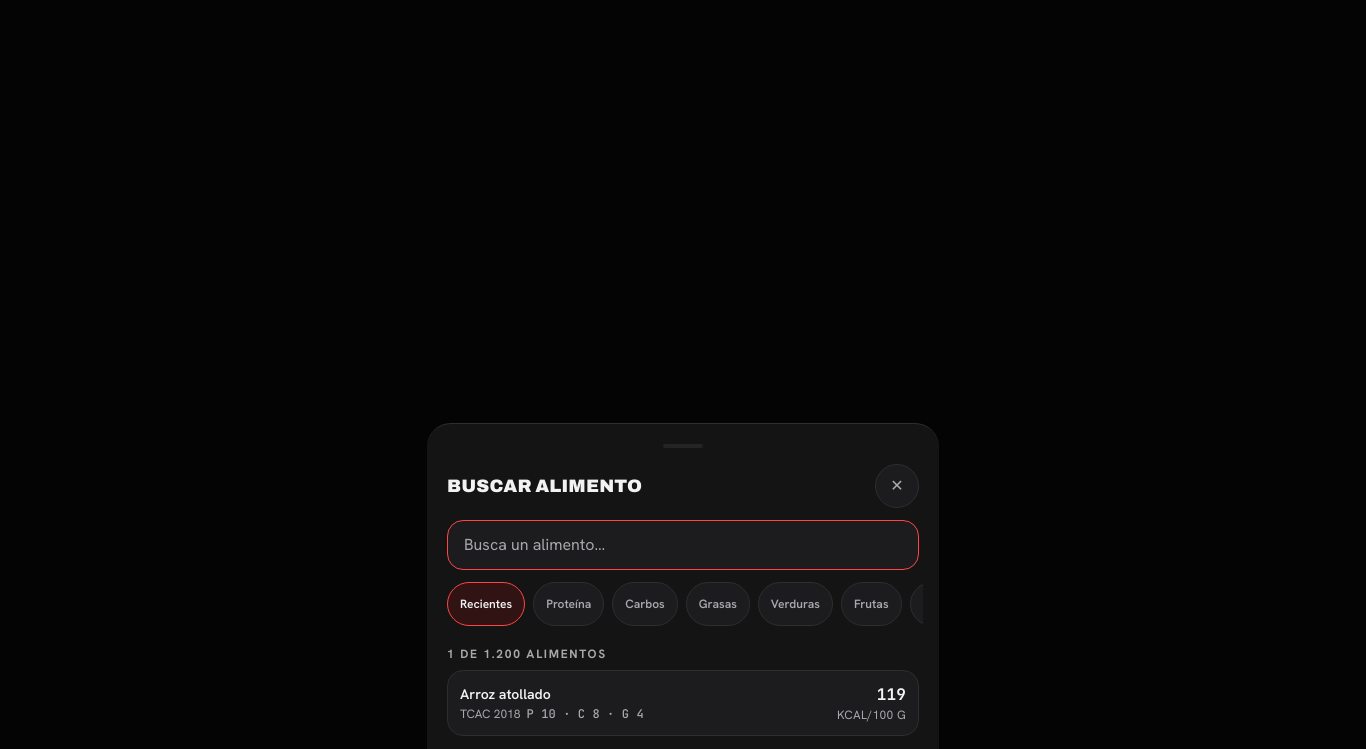
SheetBuscarAlimento › recientes › al escribir, la búsqueda manda sobre los recientes
The width and height of the screenshot is (1366, 749).
In the search field named "Nombre del alimento": point(683, 545) [447, 520, 919, 570], type "pollo"
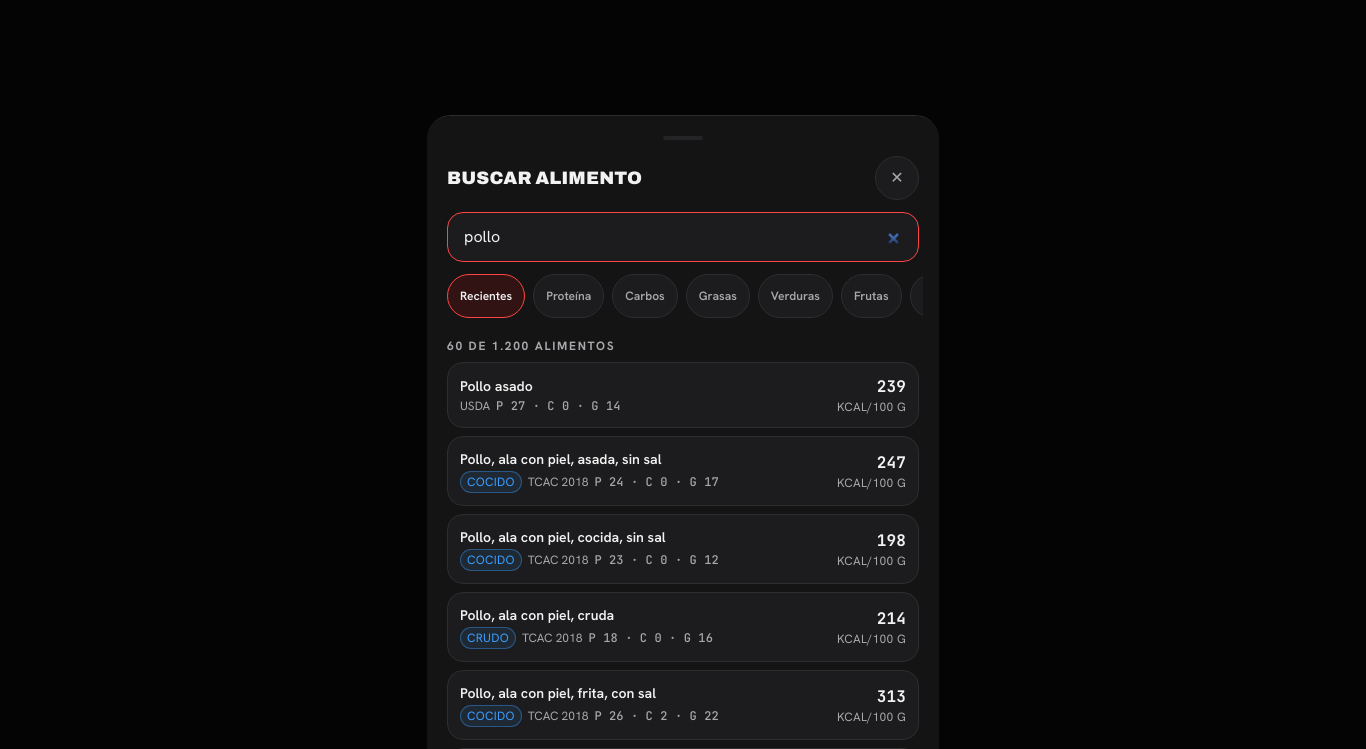
Expected: the button "Arroz atollado" is gone
